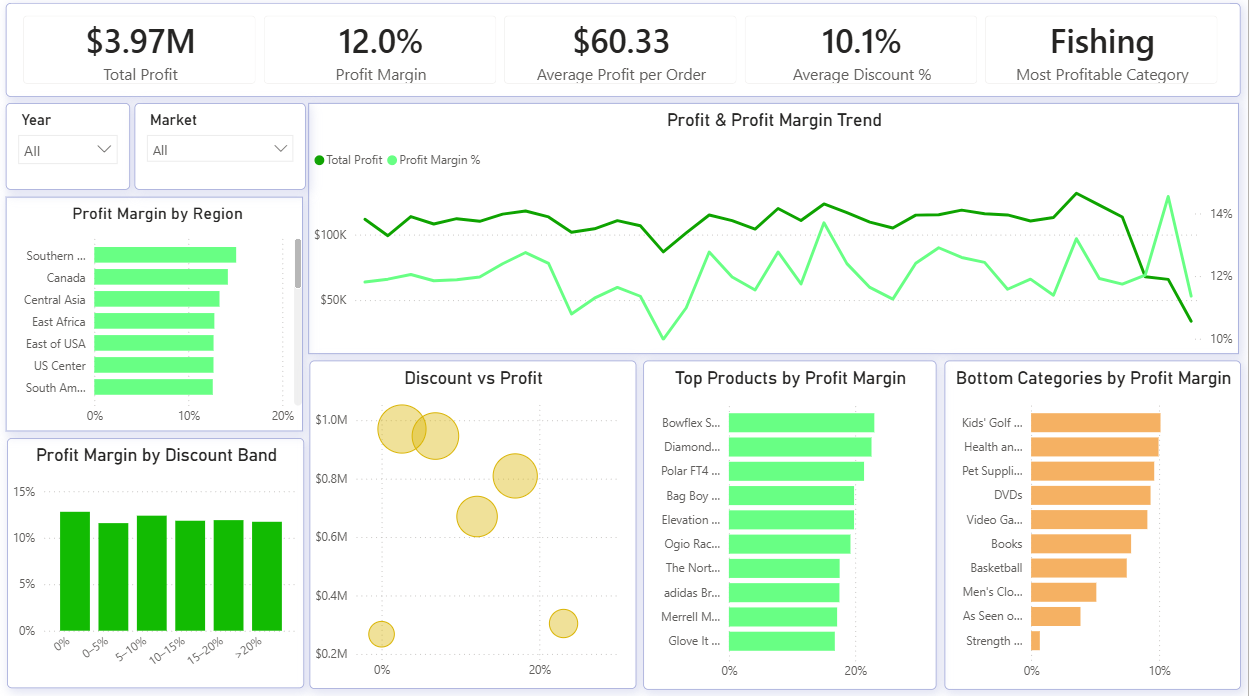

The dashboard page shown, as its layout file describes it:
{"tool":"powerbi","page":{"name":"Profitability Analysis","canvas":[1280,720],"ordinal":2},"visuals":[{"type":"cardVisual","fields":{"Data":["_Measures.Total Profit","_Measures.Profit Margin %","_Measures.Average Profit per Order","_Measures.Average Discount %","_Measures.Top Category"]},"box":[8.5,9.8,1262.9,96.4],"z":0},{"type":"lineChart","title":"Profit & Profit Margin Trend","fields":{"Category":["DimDate.Month-Year"],"Y2":["_Measures.Profit Margin %"],"Y":["_Measures.Total Profit"]},"box":[318.9,112.5,952,256.7],"z":1000},{"type":"clusteredColumnChart","title":"Profit Margin by Discount Band","fields":{"Category":["Discount Band.Discount Band"],"Y":["_Measures.Profit Margin %"]},"box":[9.7,455.5,304.2,255.9],"z":2000},{"type":"clusteredBarChart","title":"Profit Margin by Region","fields":{"Y":["_Measures.Profit Margin %"],"Category":["DimDestination.Region"]},"box":[9,208.4,304.3,240.4],"z":3000},{"type":"clusteredBarChart","title":"Bottom Categories by Profit Margin","fields":{"Category":["DimProduct.Category Name"],"Y":["_Measures.Profit Margin %"]},"box":[968.8,375.5,303.4,336.5],"z":4000},{"type":"scatterChart","title":"Discount vs Profit","fields":{"X":["_Measures.Discount %"],"Category":["Discount Band.Discount Band"],"Size":["_Measures.Total Revenue"],"Y":["_Measures.Total Profit"]},"box":[319.2,376.4,334.2,335.7],"z":5000},{"type":"clusteredBarChart","title":"Top Products by Profit Margin","fields":{"Y":["_Measures.Profit Margin %"],"Category":["DimProduct.Product Name"]},"box":[661.7,375.5,299.9,337],"z":6000},{"type":"slicer","fields":{"Values":["DimDate.Year"]},"box":[8.5,112.3,127,89],"z":7000},{"type":"slicer","fields":{"Values":["DimDestination.Market"]},"box":[140.3,112.3,175,89],"z":8000}]}

Visuals, with their boxes in screenshot pixels (x1, y1, x2, y2), scaled from the page's 1280x720 canvas onto the 1251x696 screenshot:
cardVisual - _Measures.Total Profit x _Measures.Profit Margin %: box=[8, 9, 1243, 103]
"Profit & Profit Margin Trend" lineChart: box=[312, 109, 1242, 357]
"Profit Margin by Discount Band" clusteredColumnChart: box=[9, 440, 307, 688]
"Profit Margin by Region" clusteredBarChart: box=[9, 201, 306, 434]
"Bottom Categories by Profit Margin" clusteredBarChart: box=[947, 363, 1243, 688]
"Discount vs Profit" scatterChart: box=[312, 364, 639, 688]
"Top Products by Profit Margin" clusteredBarChart: box=[647, 363, 940, 689]
slicer - DimDate.Year: box=[8, 109, 132, 195]
slicer - DimDestination.Market: box=[137, 109, 308, 195]
